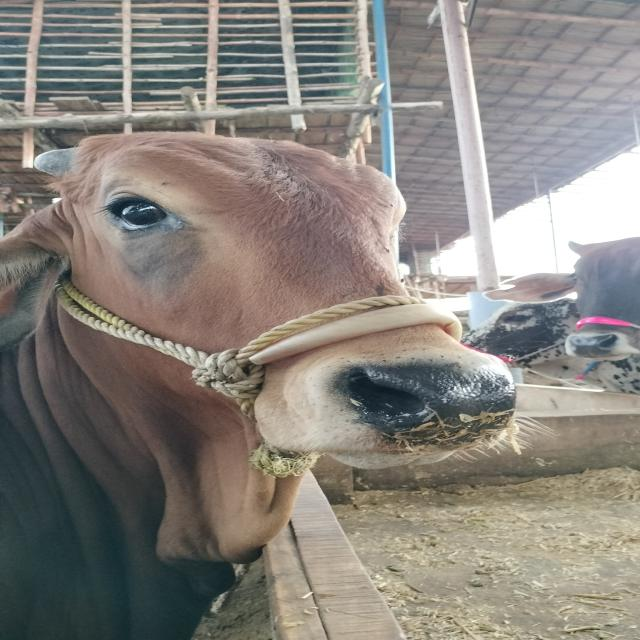muzzles: (302, 353, 529, 456)
